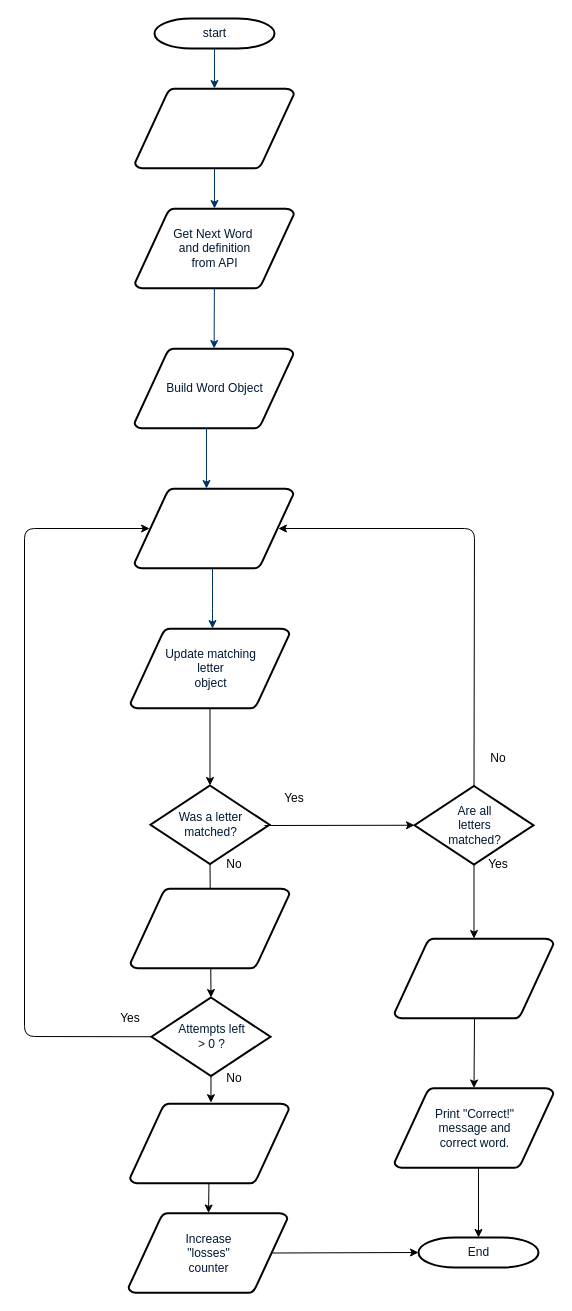
Image size: 572x1311. Some labels were removed from this diagram. Here are the shapes that lost their labels. From the top down, the centre of each, then its label:
pixel 214 128: Initialize variables letter objects word object , etc.
pixel 213 528: Print Word, Chances left and Get next letter
pixel 209 928: Decrease Chances Left by 1
pixel 473 978: Increase "Wins" counter
pixel 209 1143: Print "Lost Game" message and correct word.
